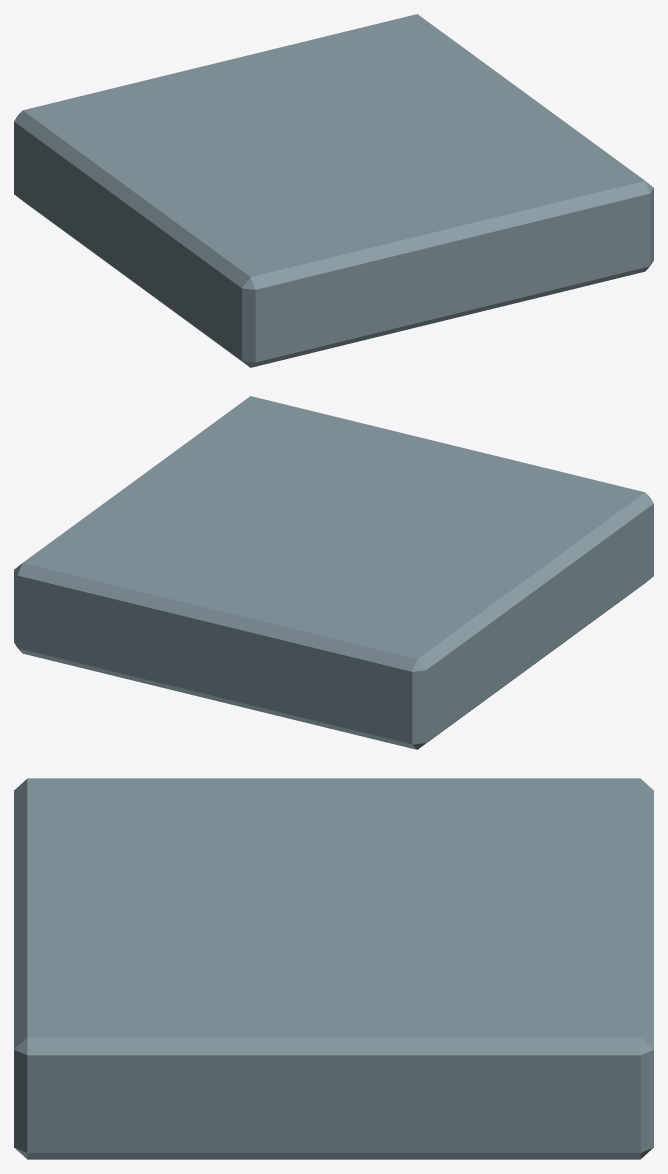
File: Airfield_Beacon_Guard.glb
3 renders of one model, top to bottom at view 1: azimuth 30°, elevation 25°; view 2: azimuth 150°, elevation 25°; view 3: azimuth 270°, elevation 25°, orthographic. The views are drawn at different scales.
Visible parts, largest first — view 1: Airfield_Beacon_Guard; view 2: Airfield_Beacon_Guard; view 3: Airfield_Beacon_Guard.
Part boxes in pixels (x1,y1,x2,y2): Airfield_Beacon_Guard: (14, 14, 653, 367); Airfield_Beacon_Guard: (14, 396, 653, 749); Airfield_Beacon_Guard: (14, 778, 653, 1159).
Size of the model in its own units: 0.38 by 0.08 by 0.38.
